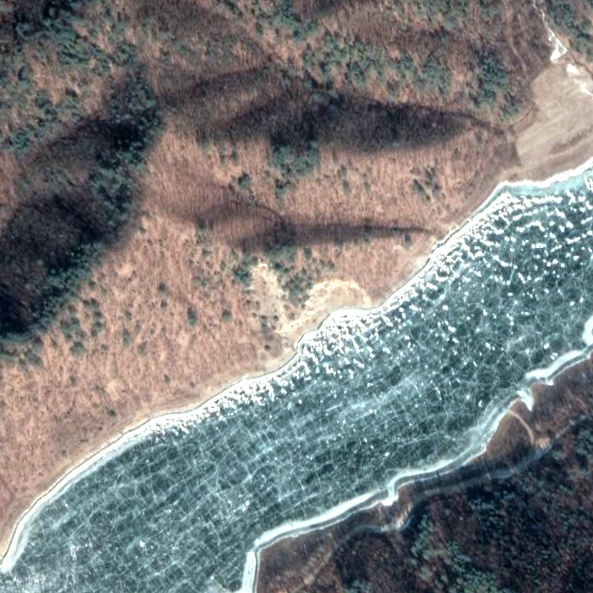slope: (252, 263, 374, 356)
